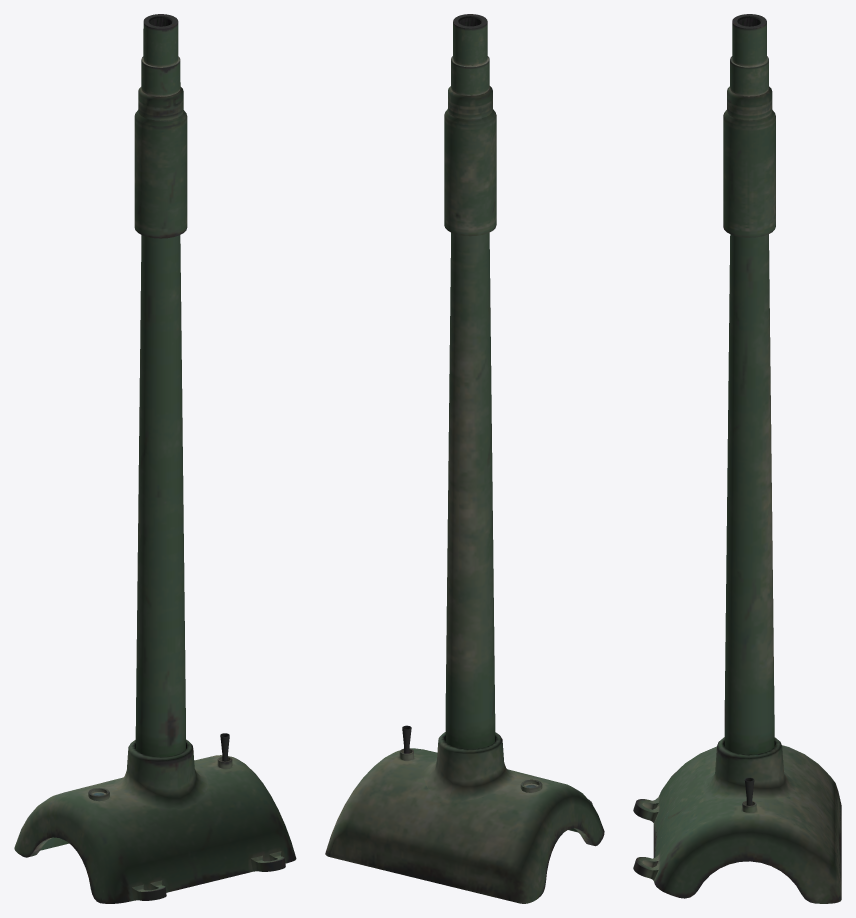
The model's file is Gun_01.glb.
The picture shows the model from 3 angles, left to right: view 1: azimuth 30°, elevation 25°; view 2: azimuth 150°, elevation 25°; view 3: azimuth 270°, elevation 25°; orthographic projection.
Visible parts, largest first — view 1: set_0_group_0; view 2: set_0_group_0; view 3: set_0_group_0.
Boxes of the visible parts, left/top/right/bottom form: set_0_group_0: left=14, top=14, right=296, bottom=903; set_0_group_0: left=325, top=14, right=604, bottom=903; set_0_group_0: left=633, top=14, right=841, bottom=903.
Size of the model in its own units: 0.9184 by 3.48 by 0.7913.
Materials: 1 (1 with a texture image).
